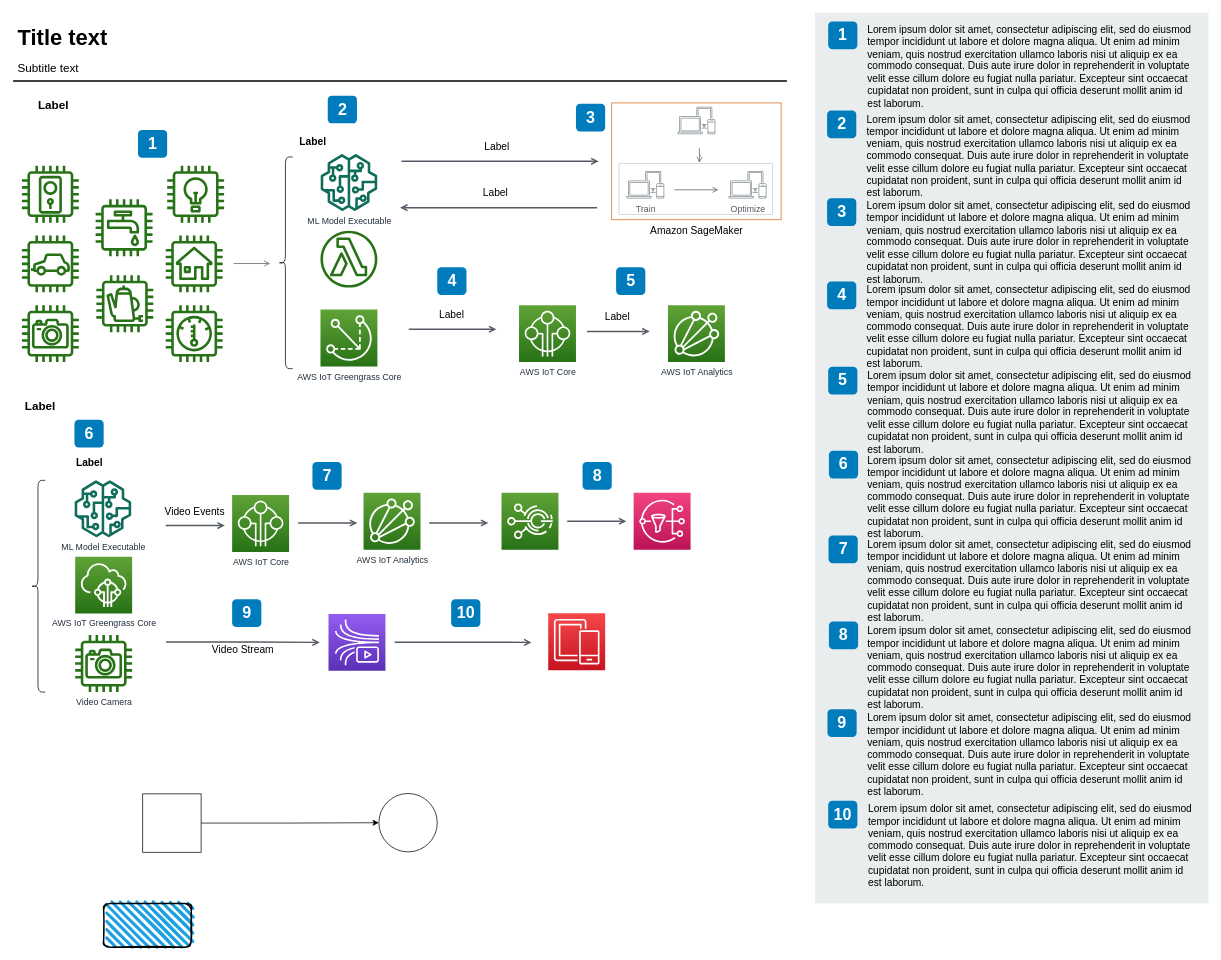
Some shapes in this 1221 by 960 pixel diagram are drawn without their labels. The centre of each missing label's shape, as x and y in pixels:
Amazon Kinesis Video Streams: point (356, 642)
Amazon SNS: point (662, 521)
AWS IoT Events: point (529, 521)
AWS Lambda Function: point (348, 258)
Build: point (696, 120)
Mobile Application: point (576, 641)
